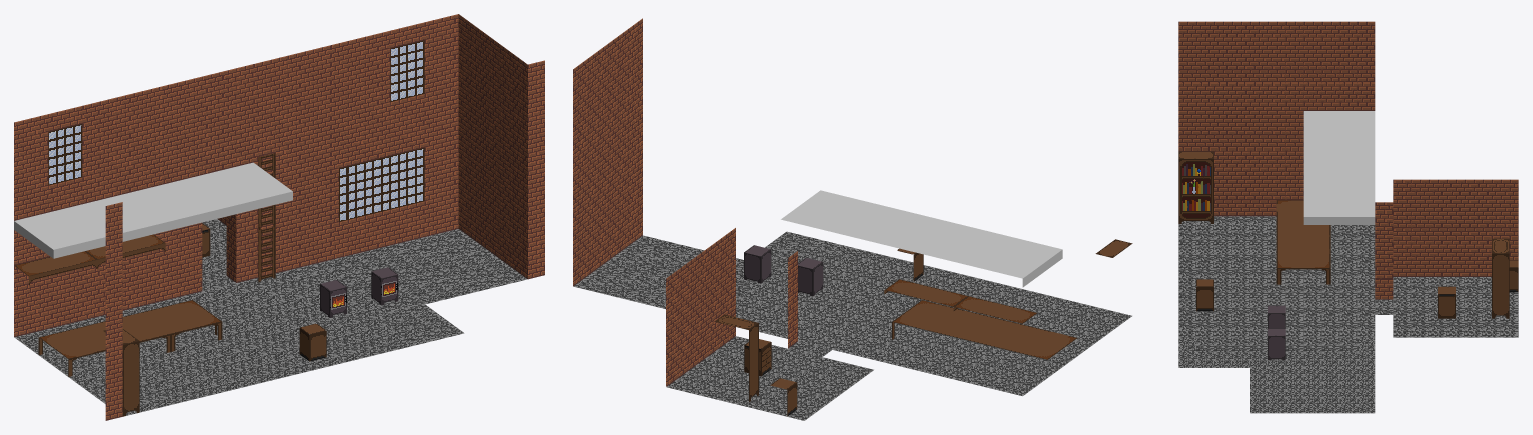
The model's file is Workshop Rough Render.gltf.
3 renders of one model, left to right at view 1: azimuth 30°, elevation 25°; view 2: azimuth 150°, elevation 25°; view 3: azimuth 270°, elevation 25°, orthographic. The views are drawn at different scales.
Visible parts, largest first — view 1: default; view 2: default; view 3: default.
Part boxes in pixels (bbox=[...]): default: bbox=[14, 14, 544, 420]; default: bbox=[573, 18, 1132, 420]; default: bbox=[1178, 21, 1518, 413].
Bounding box in the file's own units: 28 × 12 × 19.
Materials: 1 (1 with a texture image).
